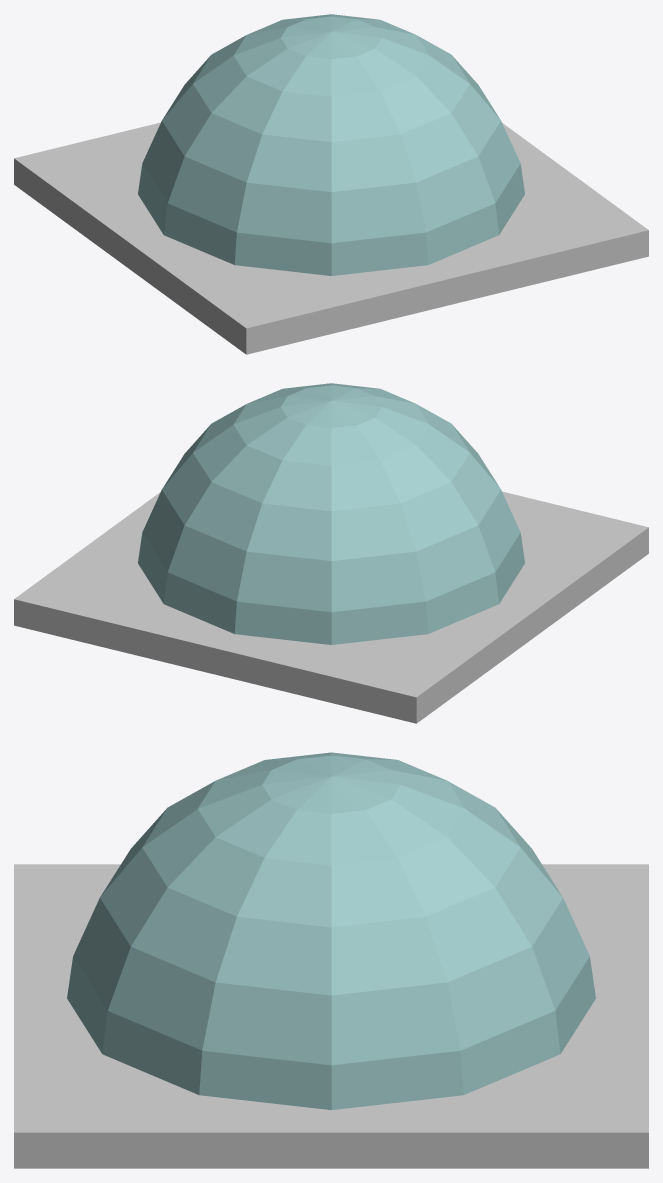
Rendered from techo_cupula.fbx.
The picture shows the model from 3 angles, top to bottom: view 1: azimuth 30°, elevation 25°; view 2: azimuth 150°, elevation 25°; view 3: azimuth 270°, elevation 25°; orthographic projection. The views are drawn at different scales.
Visible parts, largest first — view 1: techo_cupula; view 2: techo_cupula; view 3: techo_cupula.
Part boxes in pixels (x1=…): techo_cupula: x1=14, y1=14, x2=648, y2=354; techo_cupula: x1=14, y1=383, x2=648, y2=723; techo_cupula: x1=14, y1=752, x2=648, y2=1168.
Size of the model in its own units: 2000 by 896 by 2000.
